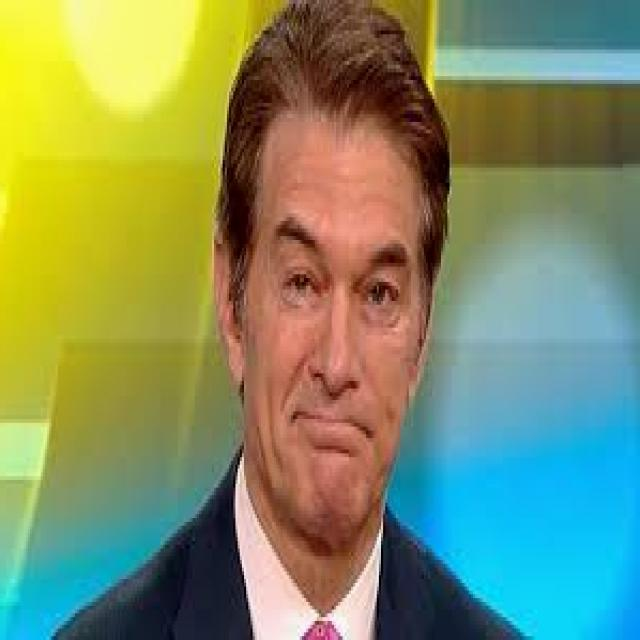normal_face: (217, 19, 439, 549)
